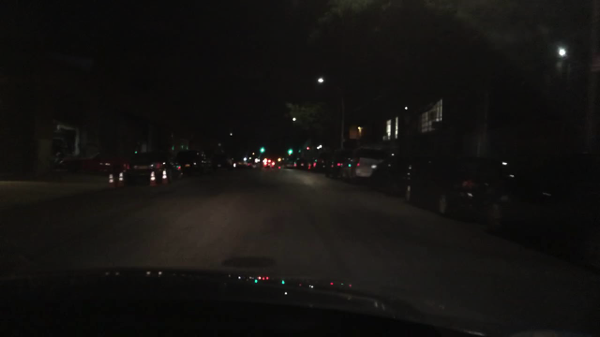car: (489, 148, 598, 249), (424, 154, 520, 224), (390, 154, 450, 205), (59, 148, 132, 178), (125, 149, 182, 186), (364, 149, 413, 192), (337, 147, 391, 183), (173, 146, 213, 177), (321, 147, 357, 179), (209, 151, 235, 171), (309, 152, 331, 173), (232, 156, 249, 169), (293, 159, 311, 169), (264, 158, 277, 169), (244, 160, 257, 169), (252, 160, 263, 169), (285, 160, 294, 169), (276, 163, 286, 169)
traffic light: (258, 147, 267, 155), (286, 149, 293, 155), (250, 151, 257, 157), (304, 145, 311, 151)
traffic sign: (348, 123, 360, 140)
